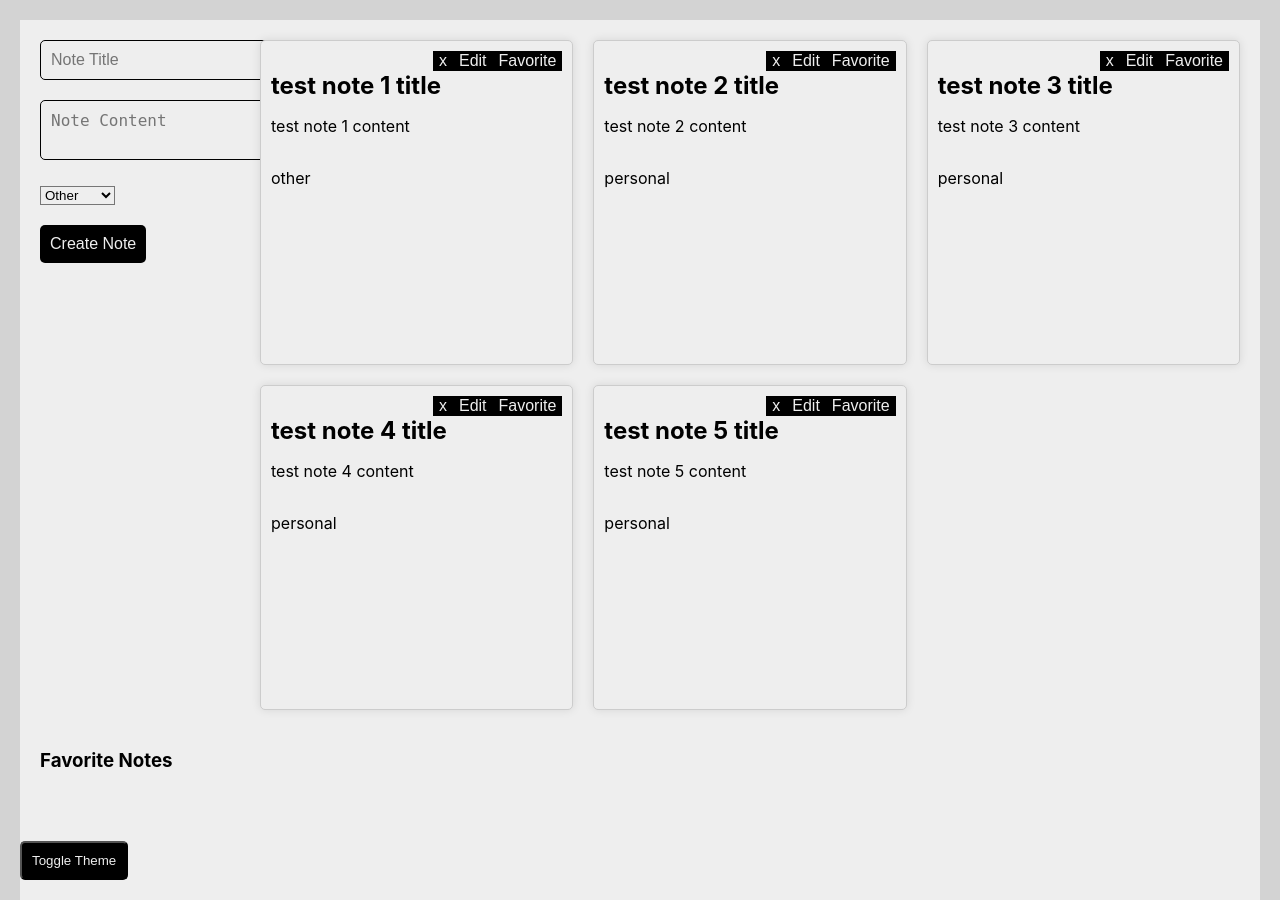
Test: Create StickyNote › Delete: Note is deleted from the page
In the field with placeholder "Note Title": x=154, y=60 [40,40,269,80], type "Delete Note Title"
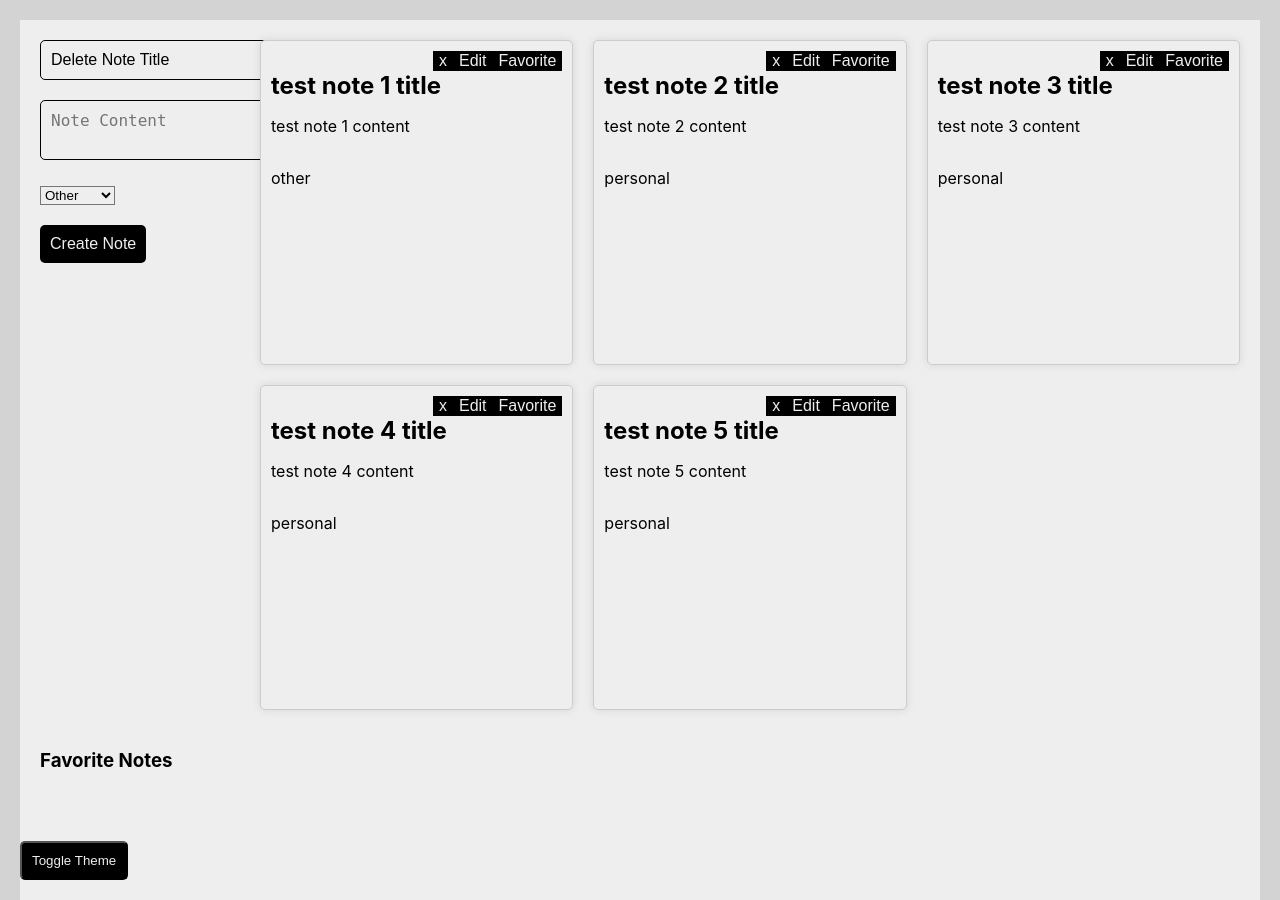
In the text box with placeholder "Note Content": x=158, y=130 [40,100,277,160], type "Delete Note Content"
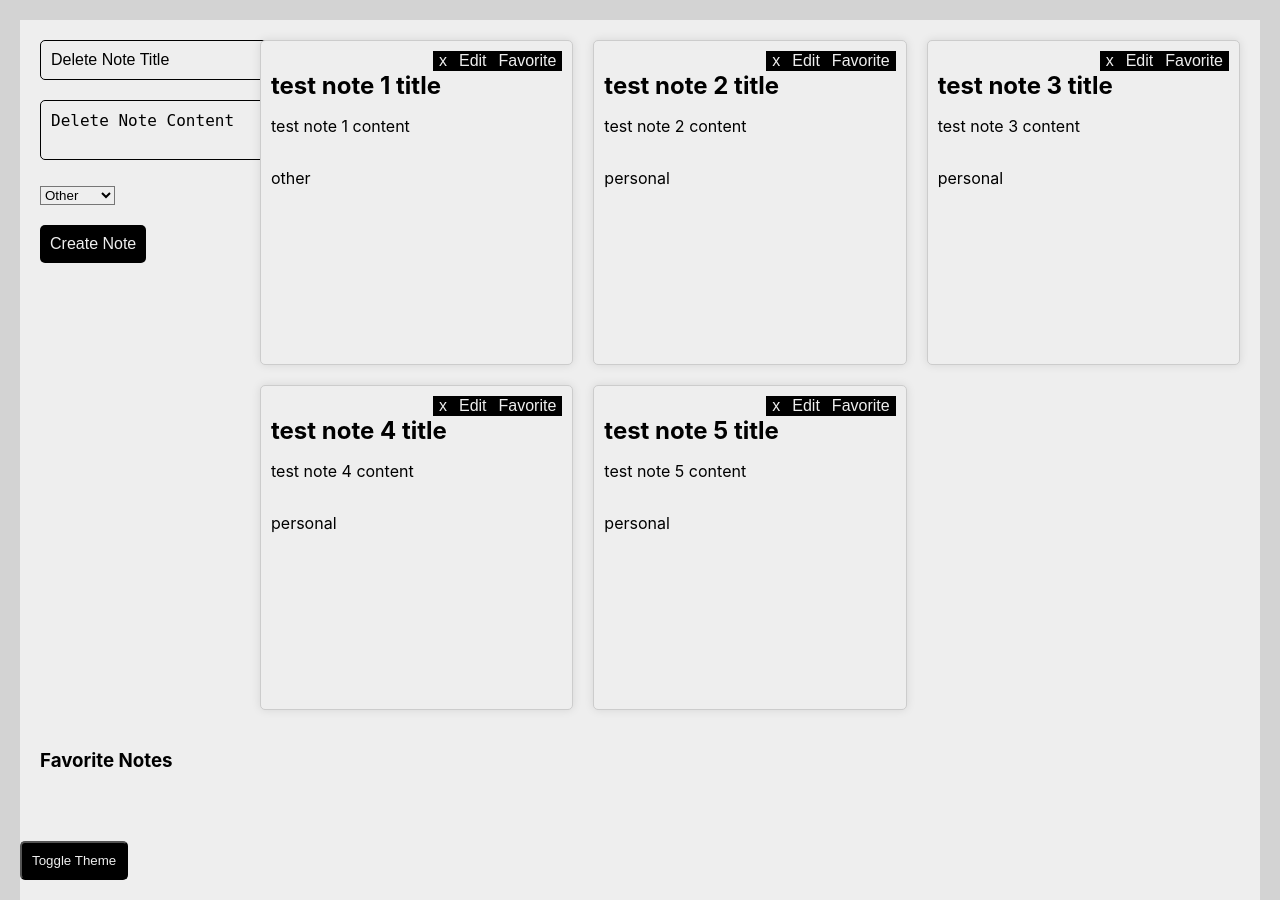
Click the button "Create Note": x=93, y=244 [40,225,146,263]
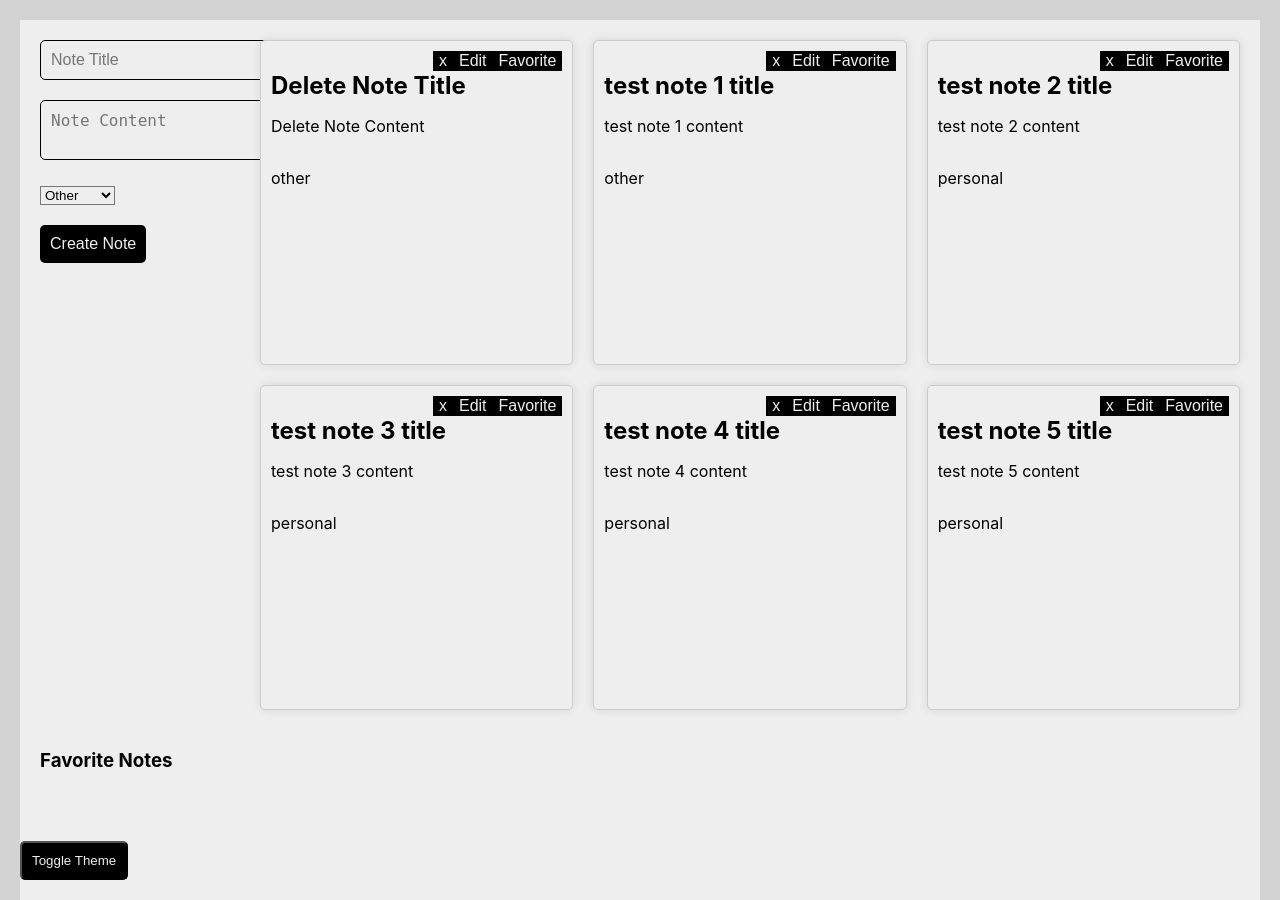
Note: delete the note
Click the 1st button "x": x=443, y=61 [433,51,453,71]
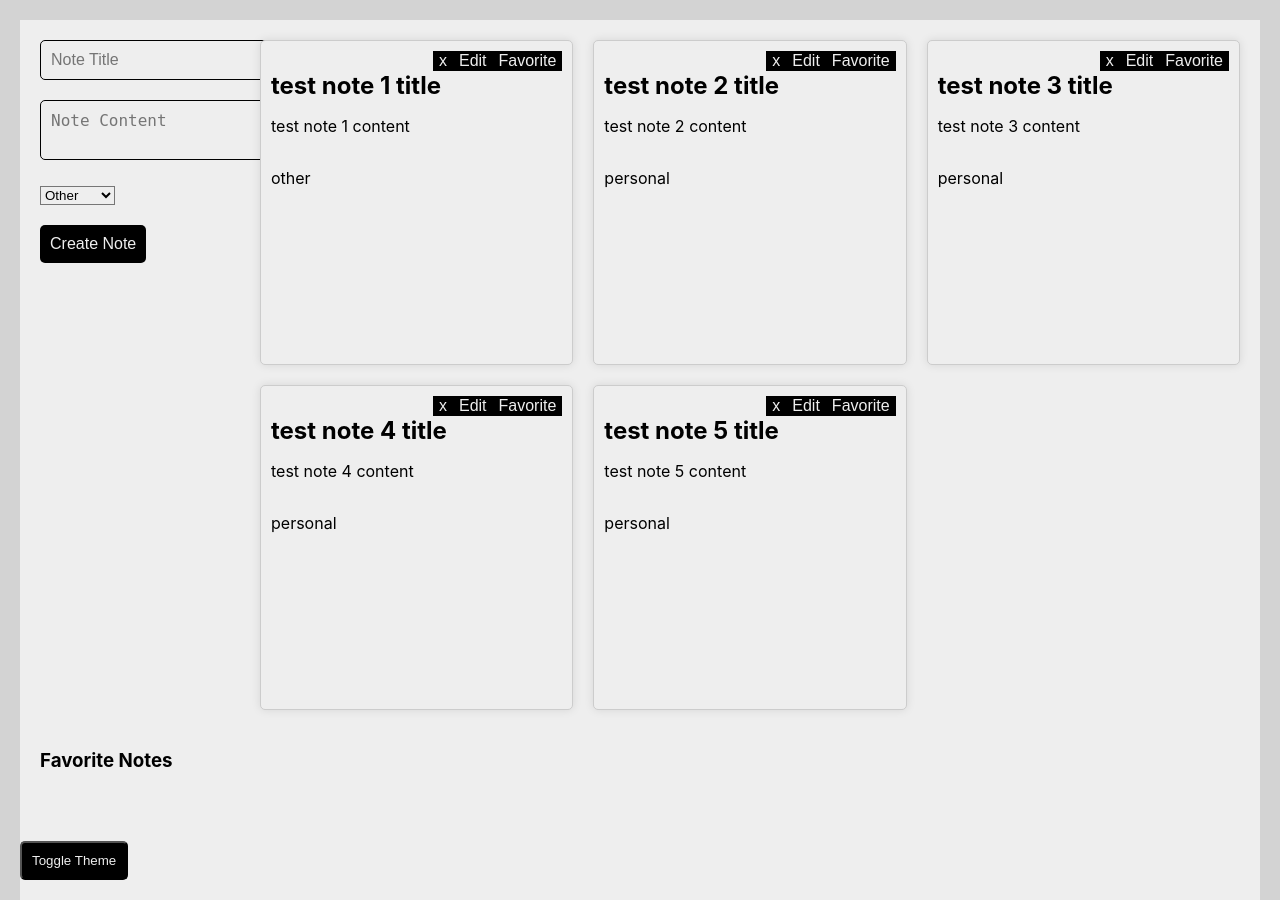
Check: the heading "Delete Note Title" is gone
Check: the text "Delete Note Content" is gone
